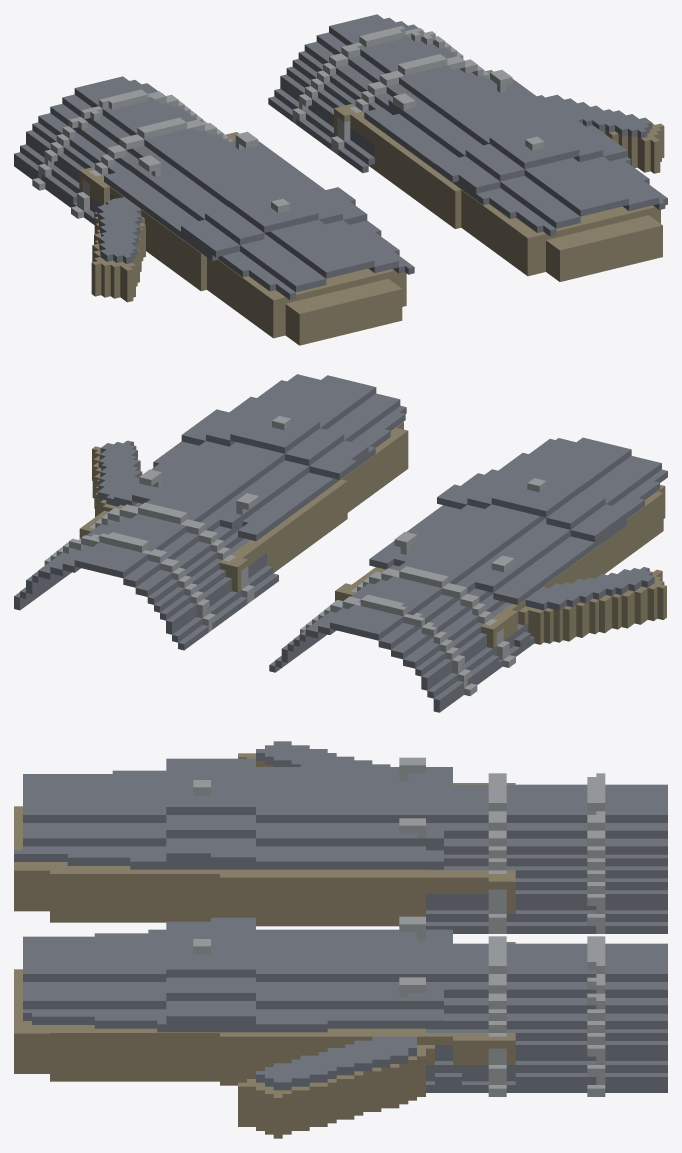
Rendered from ch_mitten_gaunt_metal_sheets.glb.
3 renders of one model, top to bottom at view 1: azimuth 30°, elevation 25°; view 2: azimuth 150°, elevation 25°; view 3: azimuth 270°, elevation 25°, orthographic. The views are drawn at different scales.
Visible parts, largest first — view 1: ch_mitten_gaunt_metal_sheets:compound; view 2: ch_mitten_gaunt_metal_sheets:compound; view 3: ch_mitten_gaunt_metal_sheets:compound.
Part boxes in pixels (bbox=[...]): ch_mitten_gaunt_metal_sheets:compound: bbox=[14, 14, 667, 345]; ch_mitten_gaunt_metal_sheets:compound: bbox=[14, 374, 667, 712]; ch_mitten_gaunt_metal_sheets:compound: bbox=[14, 741, 667, 1138].
Bounding box in the file's own units: 0.376 × 0.048 × 0.292.
